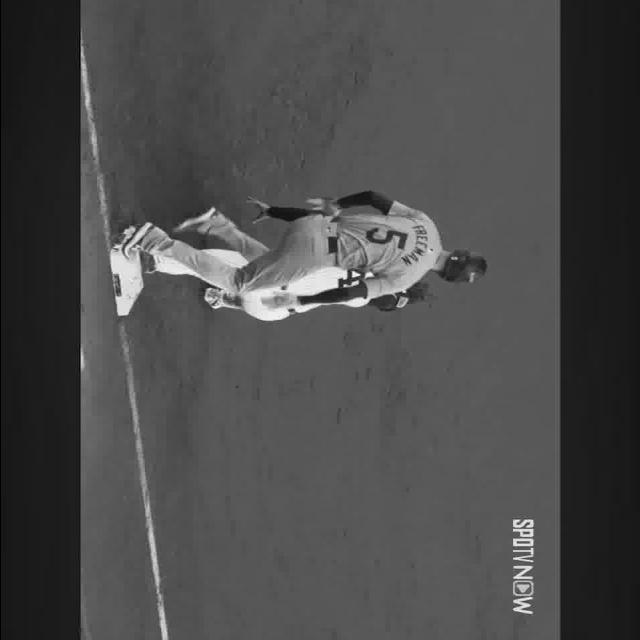base: (108, 249, 143, 316)
baseball_glove: (369, 282, 427, 312)
shoe: (172, 206, 226, 232), (122, 222, 159, 258), (204, 289, 220, 309)
